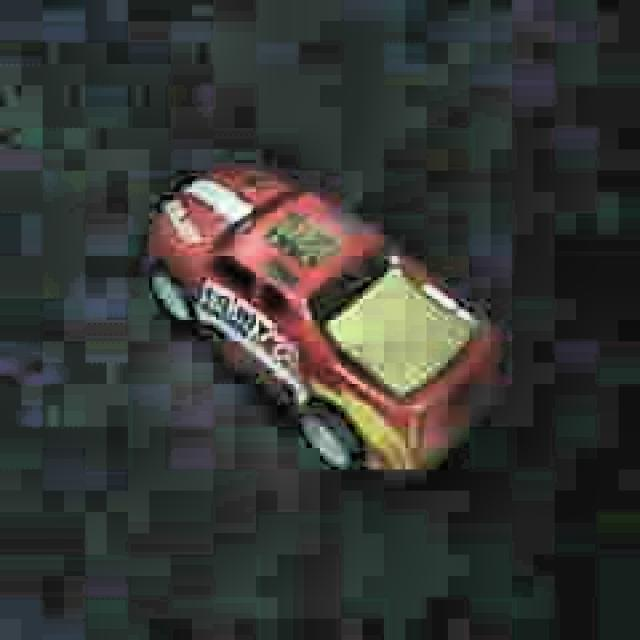car: (134, 147, 509, 492)
